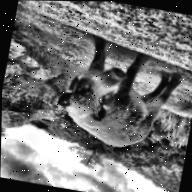boar: (49, 31, 186, 158)
